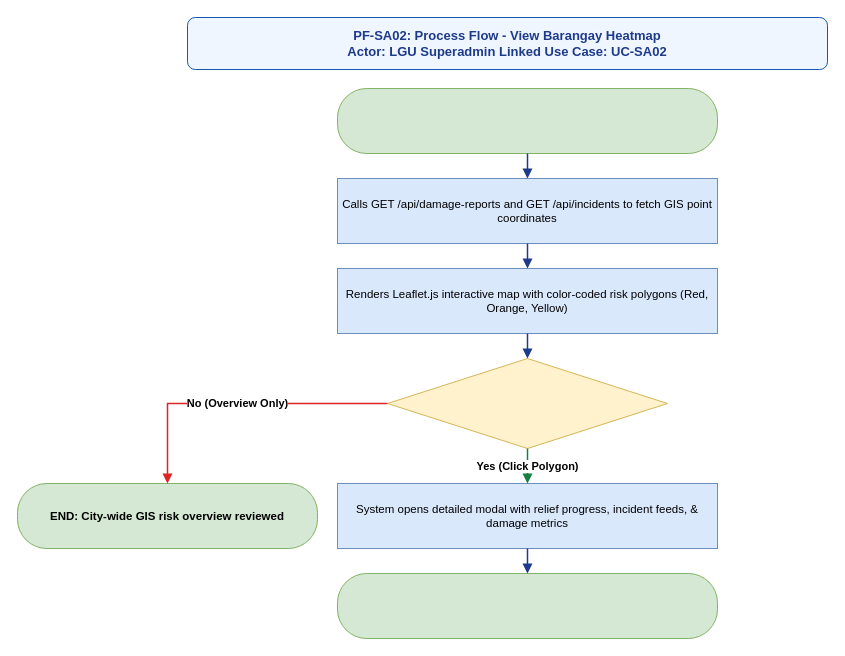
Image size: 845x656. Some labels were removed from this diagram. The box of each missing label's shape, as (x1, y1, x2, y2) in pixels:
Drill down into specific barangay?: (386, 358, 668, 448)
END: Specific barangay damage intelligence analyzed: (336, 572, 718, 638)
START: Superadmin opens BarangayHeatmap.jsx: (336, 88, 718, 154)
